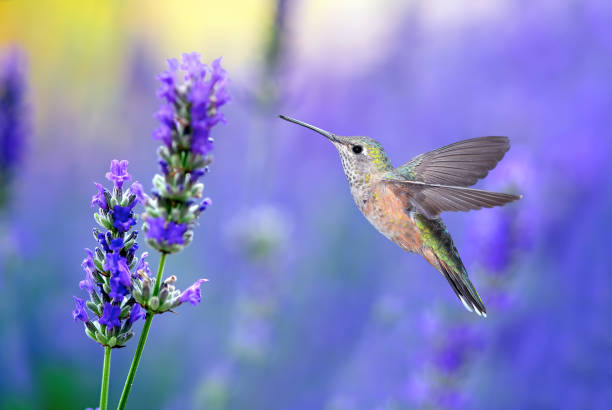Bird: (276, 112, 524, 320)
